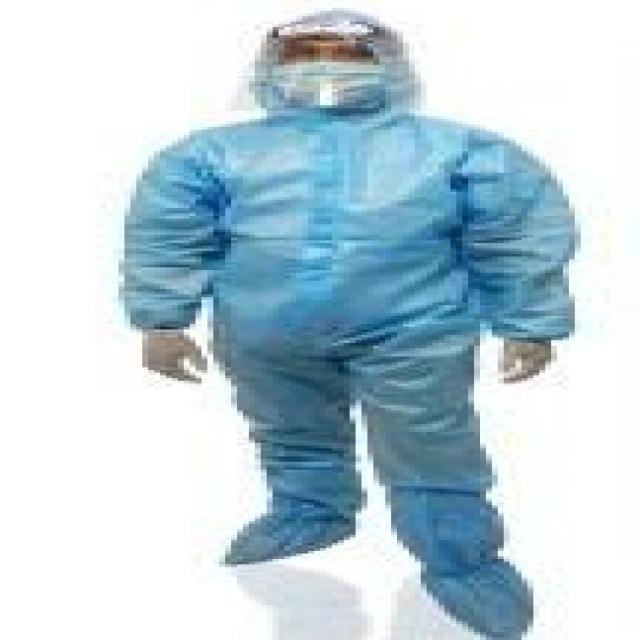Coverall: (29, 5, 640, 580)
Gloves: (432, 332, 640, 380), (113, 327, 237, 392)
Mask: (243, 59, 444, 119)
